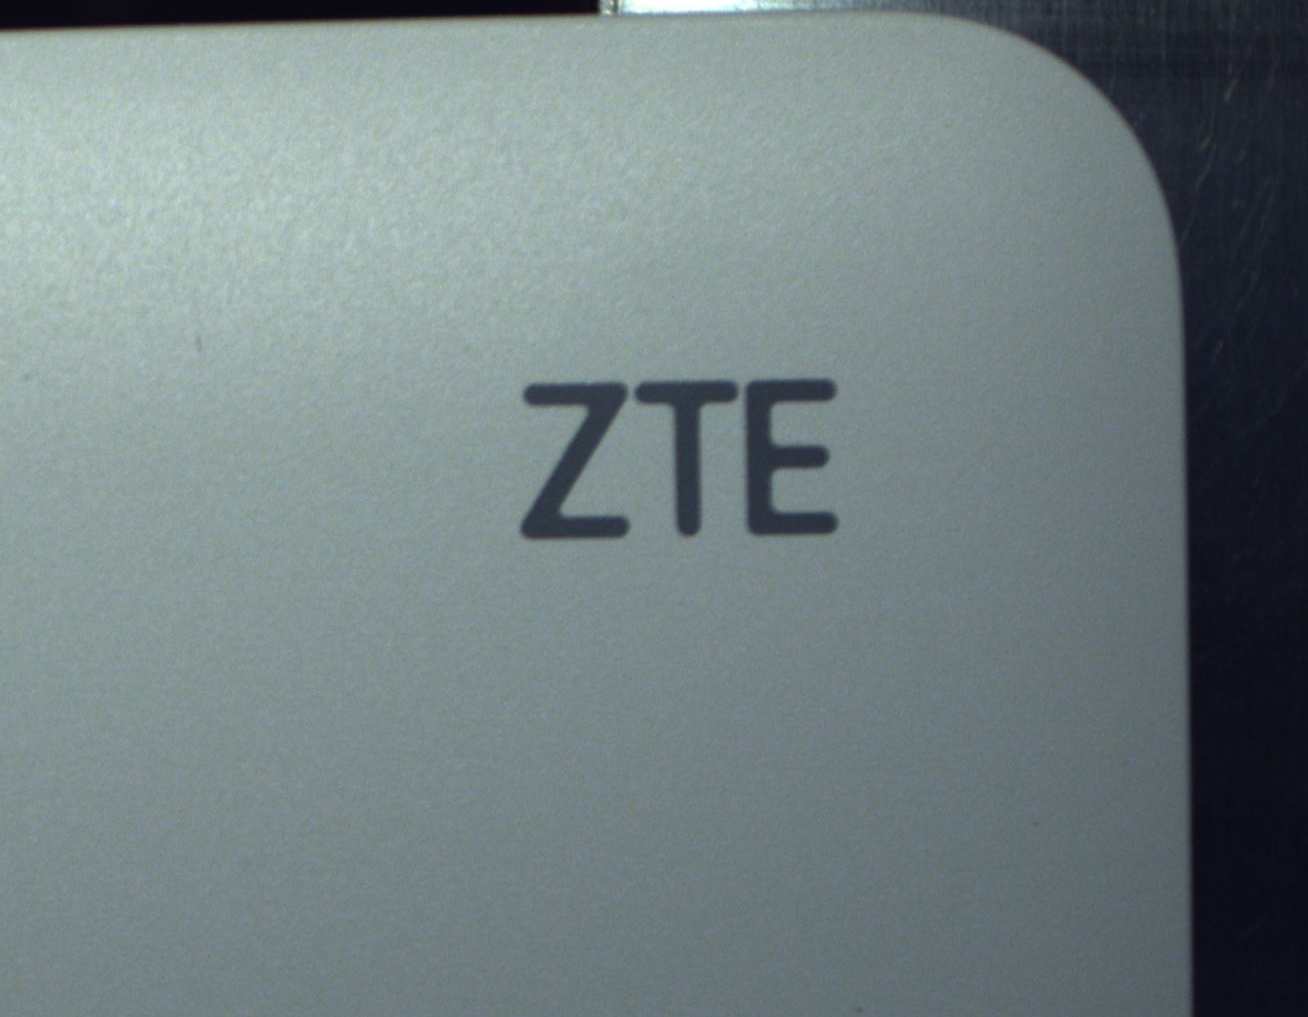AN_ZTE: (476, 360, 857, 548)
